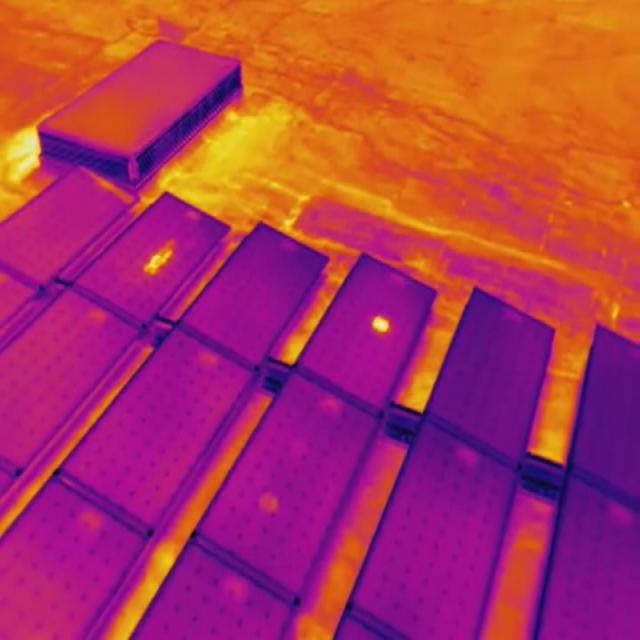Orange-Spots: (144, 238, 172, 278), (257, 485, 279, 510), (369, 313, 392, 336)
